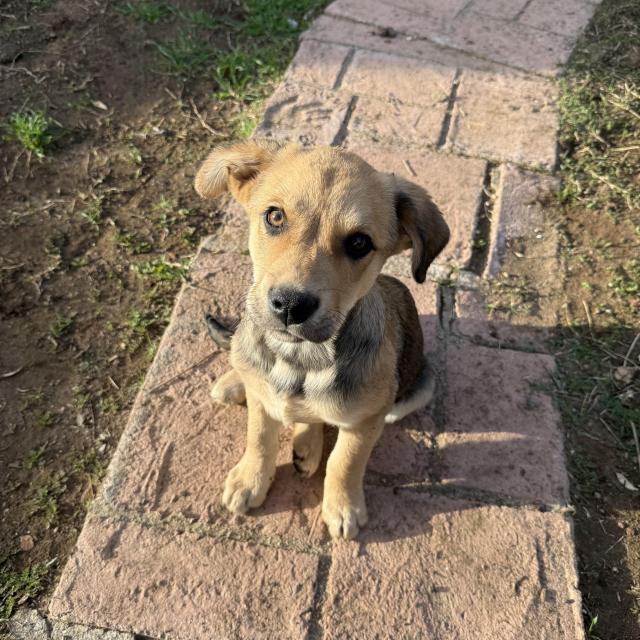labrador_retriever_dog: (182, 114, 456, 365)
